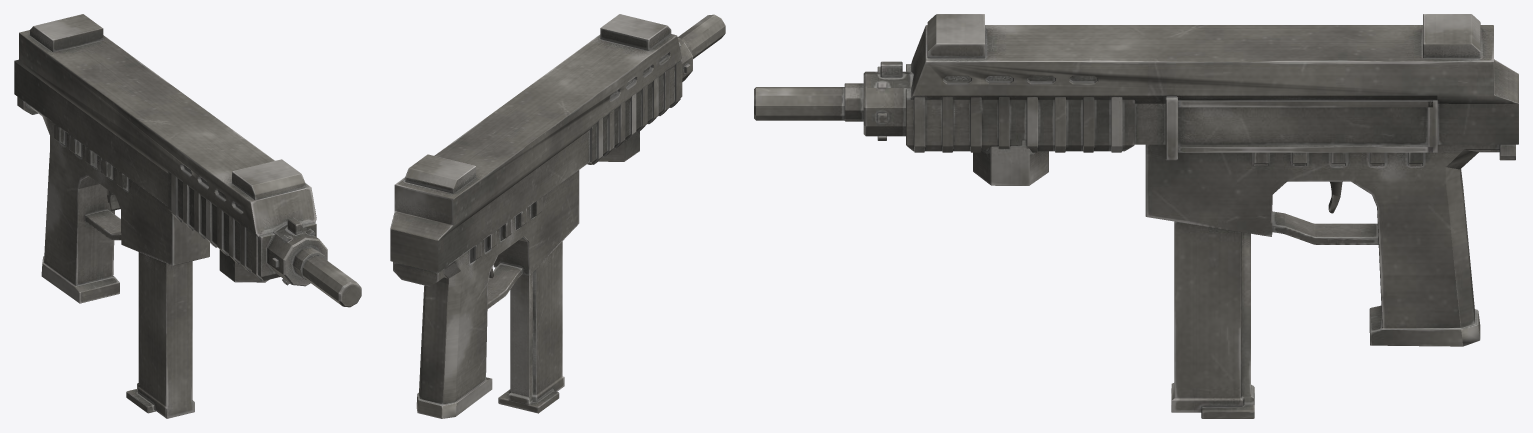
File: uzi.glb
3 views of the same model, side by side, from view 1: azimuth 30°, elevation 25°; view 2: azimuth 150°, elevation 25°; view 3: azimuth 270°, elevation 25° (orthographic). The views are drawn at different scales.
Visible parts, largest first — view 1: uzi; view 2: uzi; view 3: uzi.
Part boxes in pixels (box(x1,y1,x2,y2)): uzi: box(14, 14, 361, 418); uzi: box(390, 14, 725, 418); uzi: box(754, 14, 1518, 418).
Bounding box in the file's own units: 0.0452 × 0.2072 × 0.38.
1 material, 1 textured.
